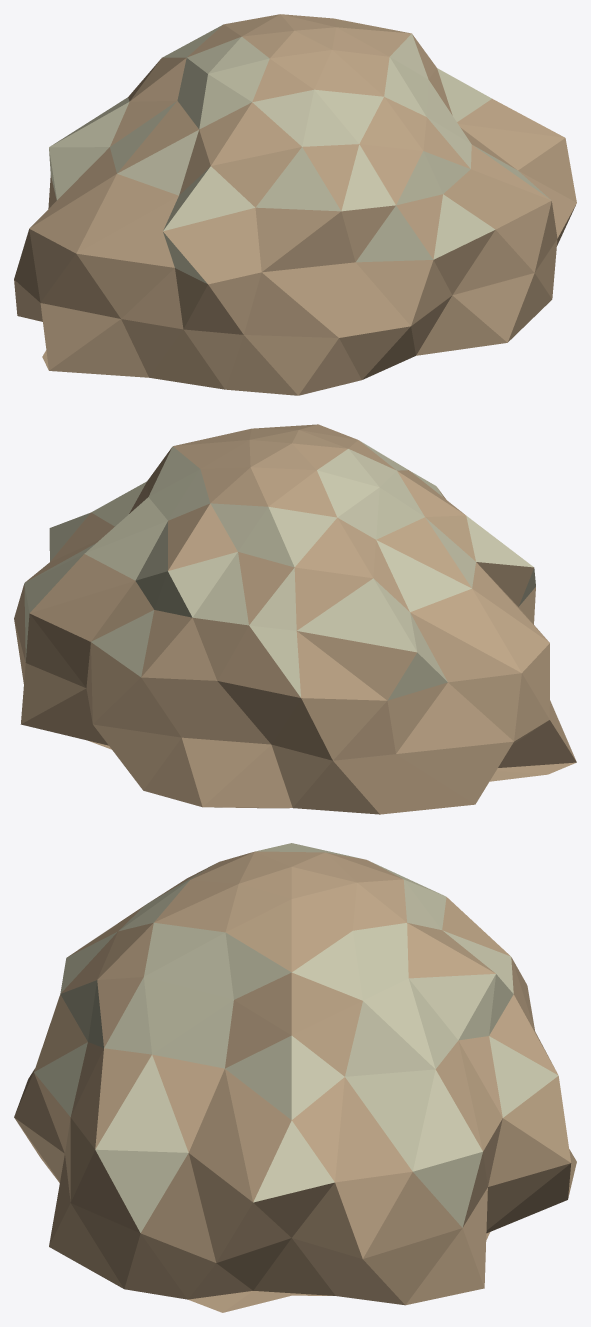
The model's file is rock0.glb.
The picture shows the model from 3 angles, top to bottom: view 1: azimuth 30°, elevation 25°; view 2: azimuth 150°, elevation 25°; view 3: azimuth 270°, elevation 25°; orthographic projection. The views are drawn at different scales.
Parts seen in each view (by area): view 1: Sandstone; view 2: Sandstone; view 3: Sandstone.
Boxes of the visible parts, left/top/right/bottom form: Sandstone: left=14, top=14, right=576, bottom=395; Sandstone: left=14, top=424, right=576, bottom=814; Sandstone: left=14, top=843, right=576, bottom=1312.
Bounding box in the file's own units: 2.19 × 1.07 × 1.73.
